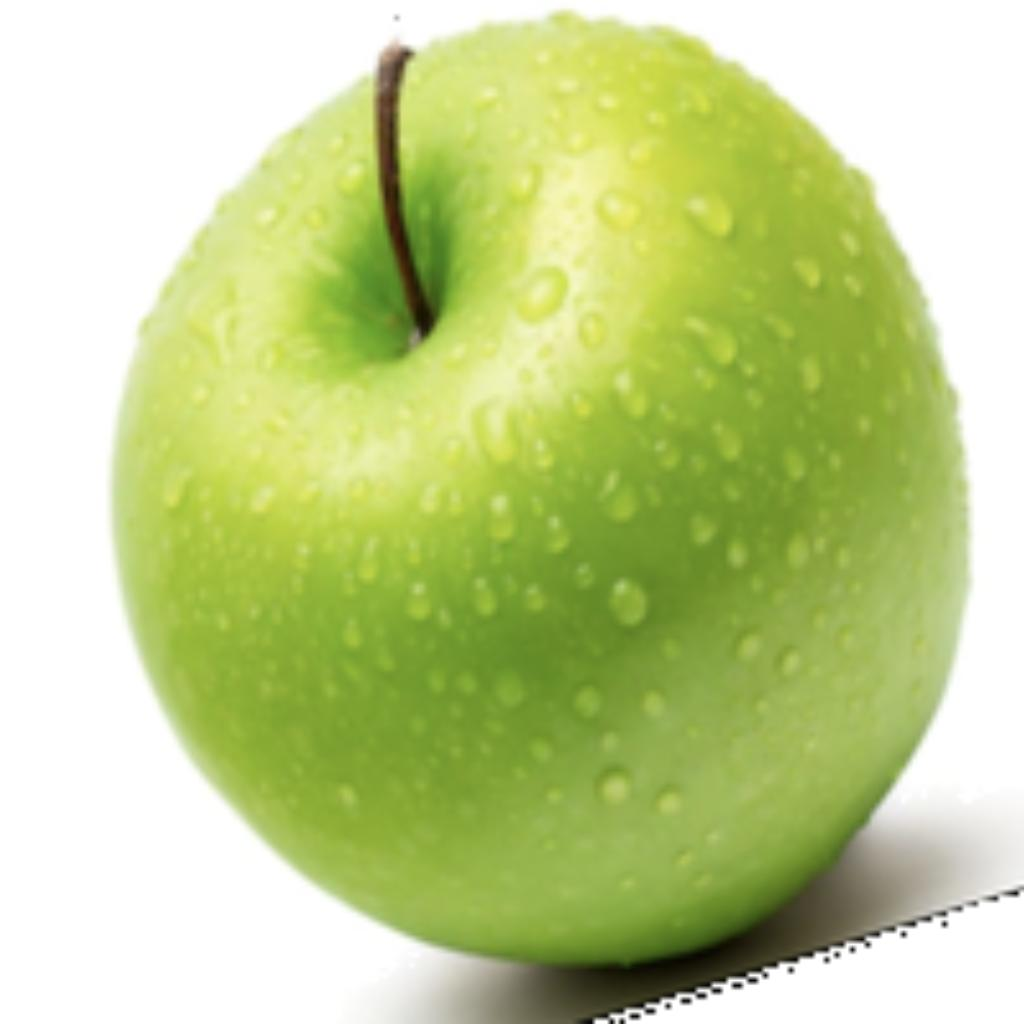apple: (102, 5, 1019, 1019)
